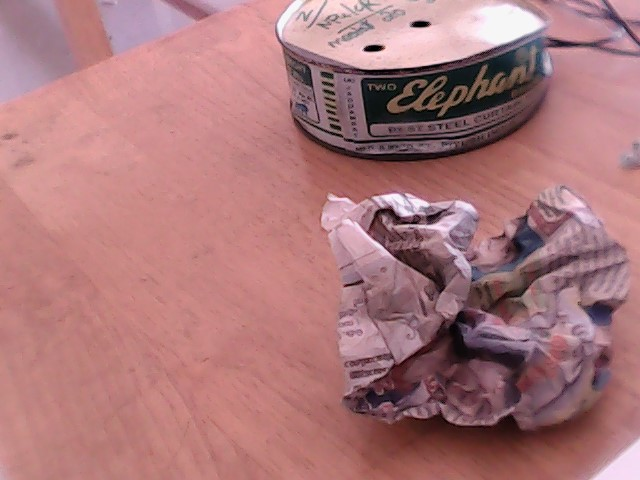Metal: (319, 175, 586, 466), (262, 16, 547, 139)
